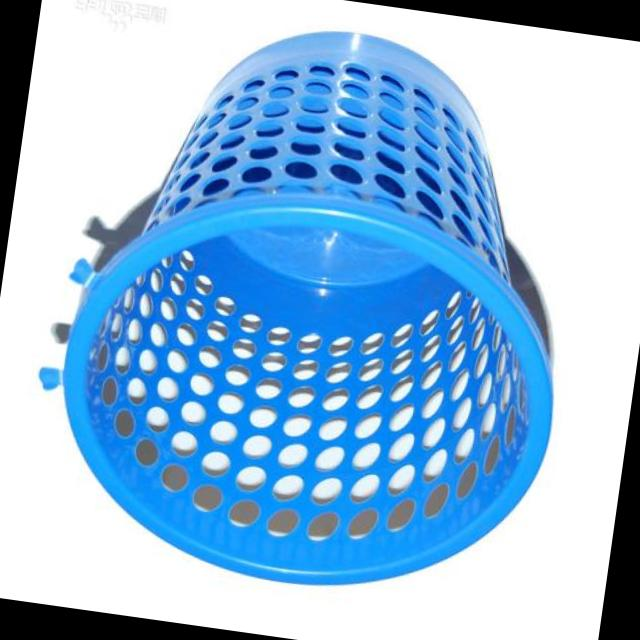dustbin: (20, 0, 618, 630)
